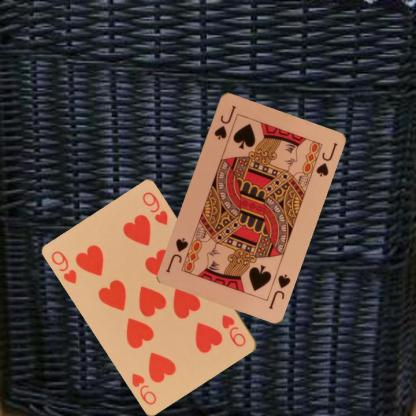9h: (49, 248, 78, 285), (219, 312, 248, 348)
Js: (265, 271, 292, 310), (212, 102, 238, 141)
